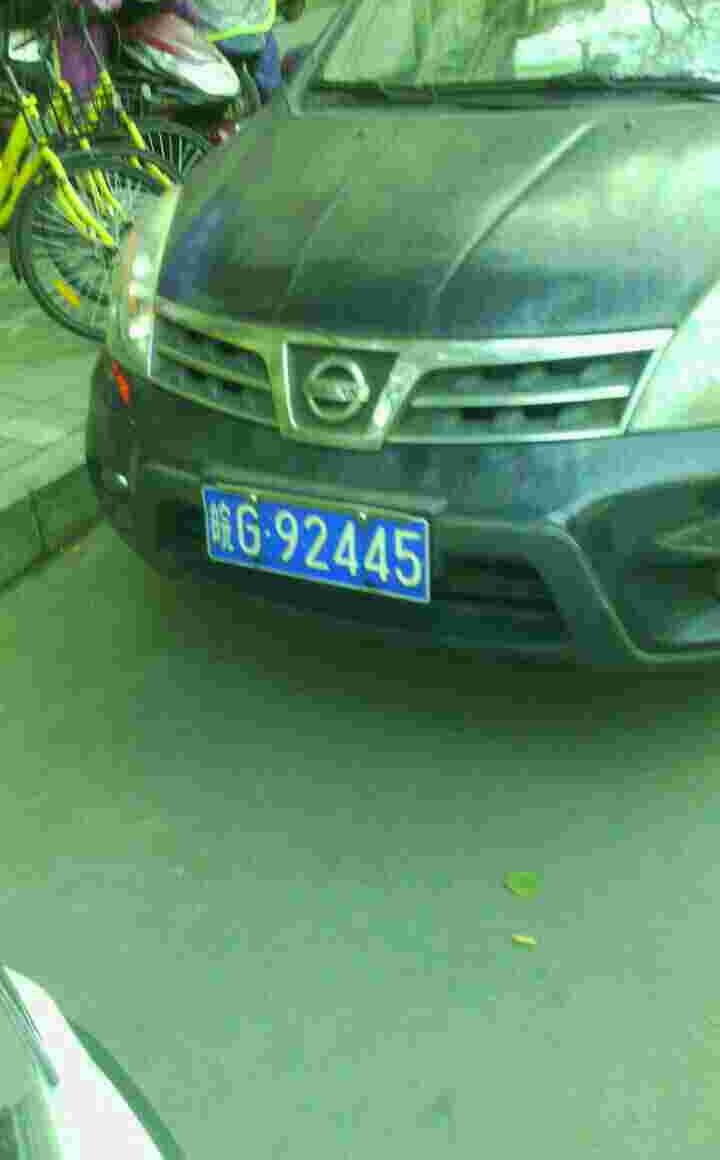license_plate: (211, 502, 433, 588)
